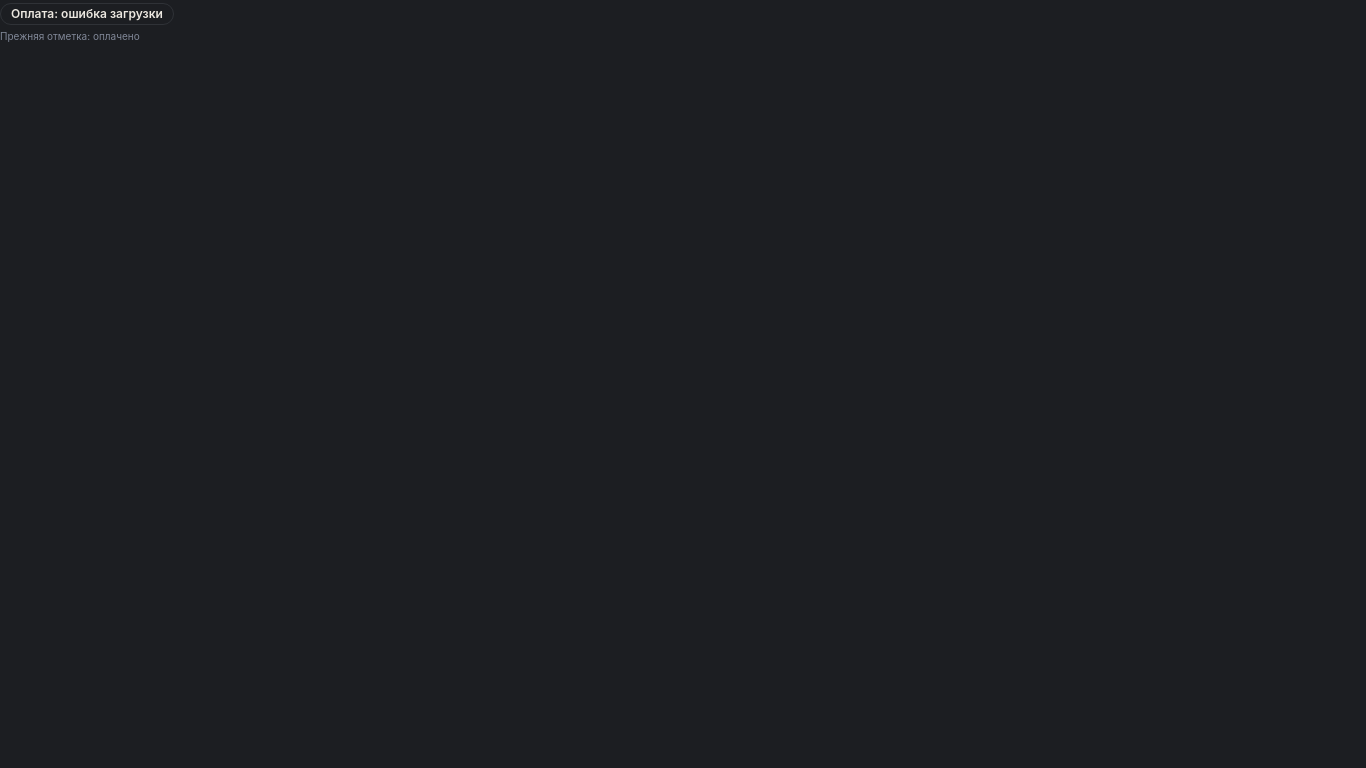
Test: payment details CRM › does not present a legacy paid flag as a verified status on read failure
Click the button with aria-label "Оплата: Договор №20".
click(87, 12)  # box [0,0,174,25]
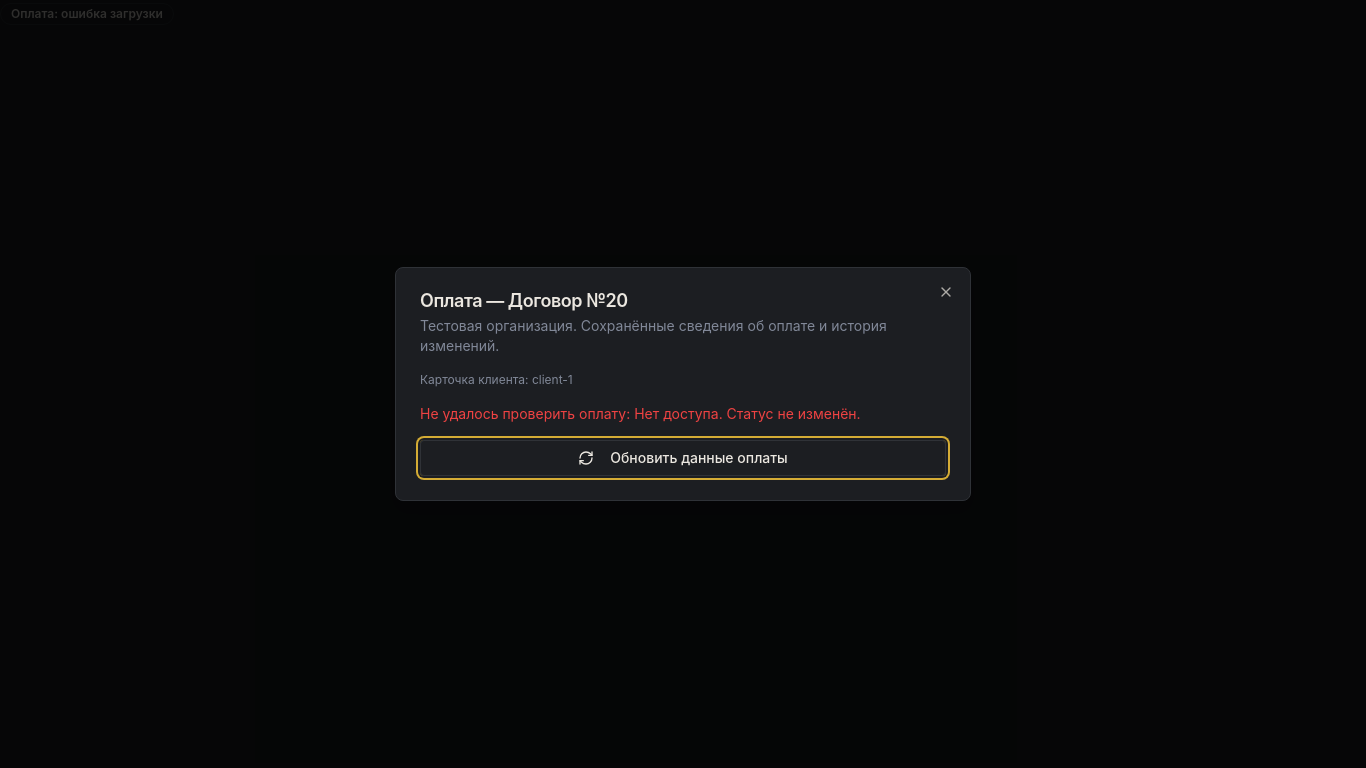
Expected: the message shows "Не удалось проверить оплату: Нет доступа", [420,405,861,422]
Expected: the text "оплачен" is gone
